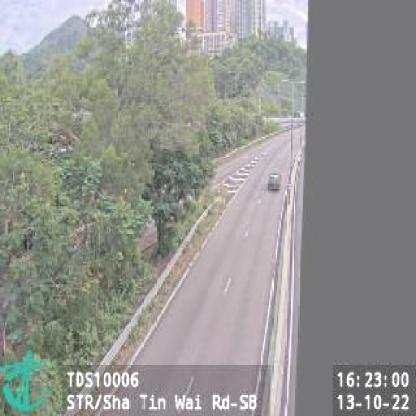Car: (268, 172, 282, 193)
